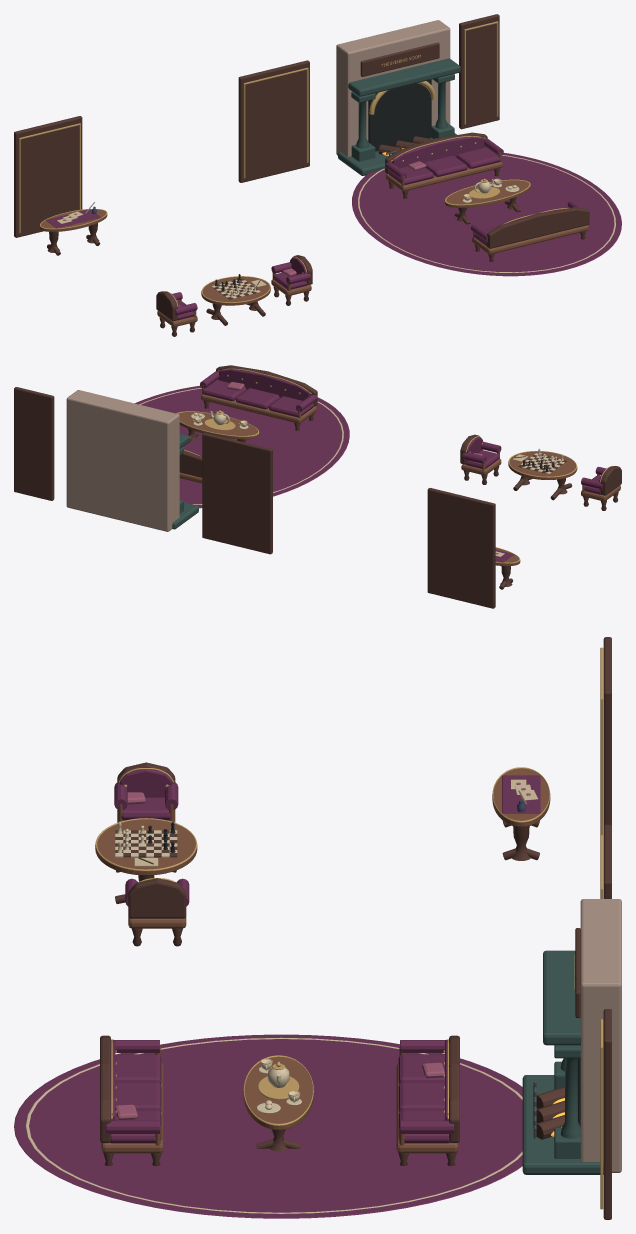
The model's file is parlor.glb.
The picture shows the model from 3 angles, top to bottom: view 1: azimuth 30°, elevation 25°; view 2: azimuth 150°, elevation 25°; view 3: azimuth 270°, elevation 25°; orthographic projection. The views are drawn at different scales.
Visible parts, largest first — view 1: Crafted assembly 011, Crafted assembly 004, Crafted assembly 007, Crafted assembly 000, Crafted assembly 002, Crafted assembly 009, Crafted assembly 001, Crafted assembly 013, Crafted assembly 016, Crafted assembly 003, Crafted assembly 020, Crafted assembly 008 (+2 smaller); view 2: Crafted assembly 000, Crafted assembly 011, Crafted assembly 007, Crafted assembly 004, Crafted assembly 009, Crafted assembly 013, Crafted assembly 016, Crafted assembly 020, Crafted assembly 003, Crafted assembly 002, Crafted assembly 017, Crafted assembly 012 (+2 smaller); view 3: Crafted assembly 011, Crafted assembly 000, Crafted assembly 002, Crafted assembly 007, Crafted assembly 004, Crafted assembly 016, Crafted assembly 013, Crafted assembly 020, Crafted assembly 012, Crafted assembly 003, Crafted assembly 009, Crafted assembly 008 (+2 smaller).
Boxes of the visible parts, box(x1,y1,x2,y2) form: Crafted assembly 011: box(352, 136, 621, 276); Crafted assembly 004: box(238, 42, 589, 261); Crafted assembly 007: box(14, 116, 312, 336); Crafted assembly 000: box(336, 20, 450, 156); Crafted assembly 002: box(338, 58, 460, 175); Crafted assembly 009: box(459, 14, 499, 129); Crafted assembly 001: box(368, 79, 431, 151); Crafted assembly 013: box(385, 152, 588, 254); Crafted assembly 016: box(39, 209, 311, 326); Crafted assembly 003: box(243, 55, 568, 224); Crafted assembly 020: box(46, 209, 310, 320); Crafted assembly 008: box(19, 123, 307, 307); Crafted assembly 000: box(66, 390, 179, 531); Crafted assembly 011: box(135, 369, 349, 508); Crafted assembly 007: box(427, 434, 621, 608); Crafted assembly 004: box(179, 365, 317, 554); Crafted assembly 009: box(14, 387, 54, 500); Crafted assembly 013: box(178, 385, 316, 483); Crafted assembly 016: box(461, 449, 620, 566); Crafted assembly 020: box(462, 437, 606, 562); Crafted assembly 003: box(176, 368, 311, 456); Crafted assembly 002: box(172, 433, 198, 529); Crafted assembly 017: box(521, 448, 564, 474); Crafted assembly 012: box(139, 388, 343, 504); Crafted assembly 011: box(14, 1034, 522, 1218); Crafted assembly 000: box(580, 899, 621, 1172); Crafted assembly 002: box(522, 950, 603, 1174); Crafted assembly 007: box(115, 637, 611, 946); Crafted assembly 004: box(100, 824, 611, 1166); Crafted assembly 016: box(95, 768, 550, 928); Crafted assembly 013: box(101, 1046, 458, 1153); Crafted assembly 020: box(114, 769, 540, 906); Crafted assembly 012: box(26, 1037, 522, 1213); Crafted assembly 003: box(111, 835, 603, 1125); Crafted assembly 009: box(603, 1009, 611, 1219); Crafted assembly 008: box(95, 647, 603, 882).
Size of what is drawn, in the model's own units: 17.45 by 3.8 by 11.02.
